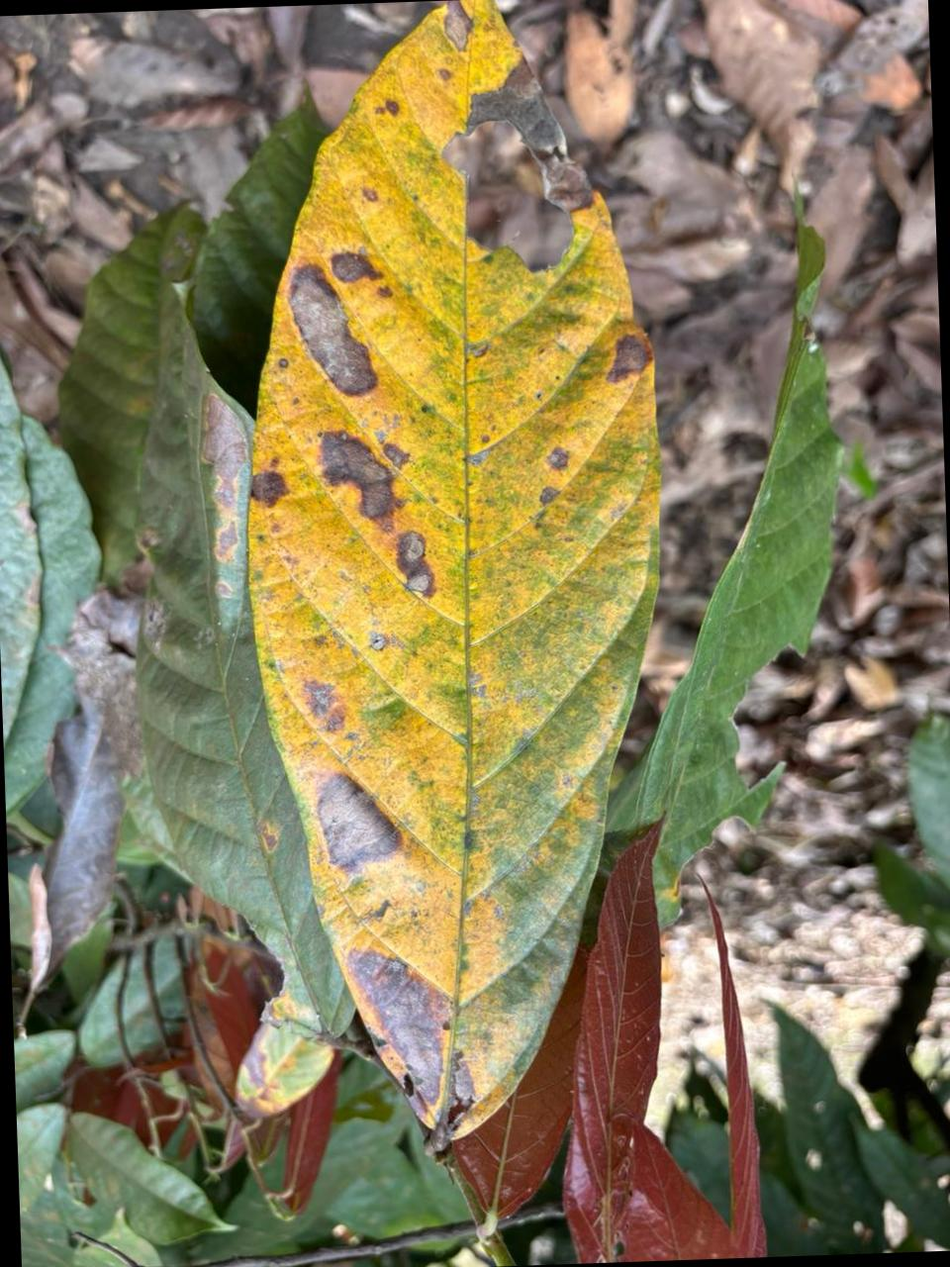Fosforo: (247, 0, 659, 1144)
